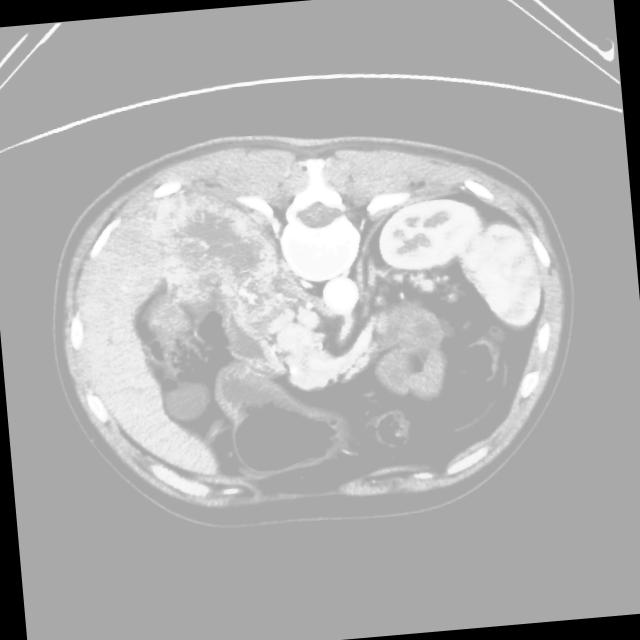TUMOR: (192, 251, 512, 436)
